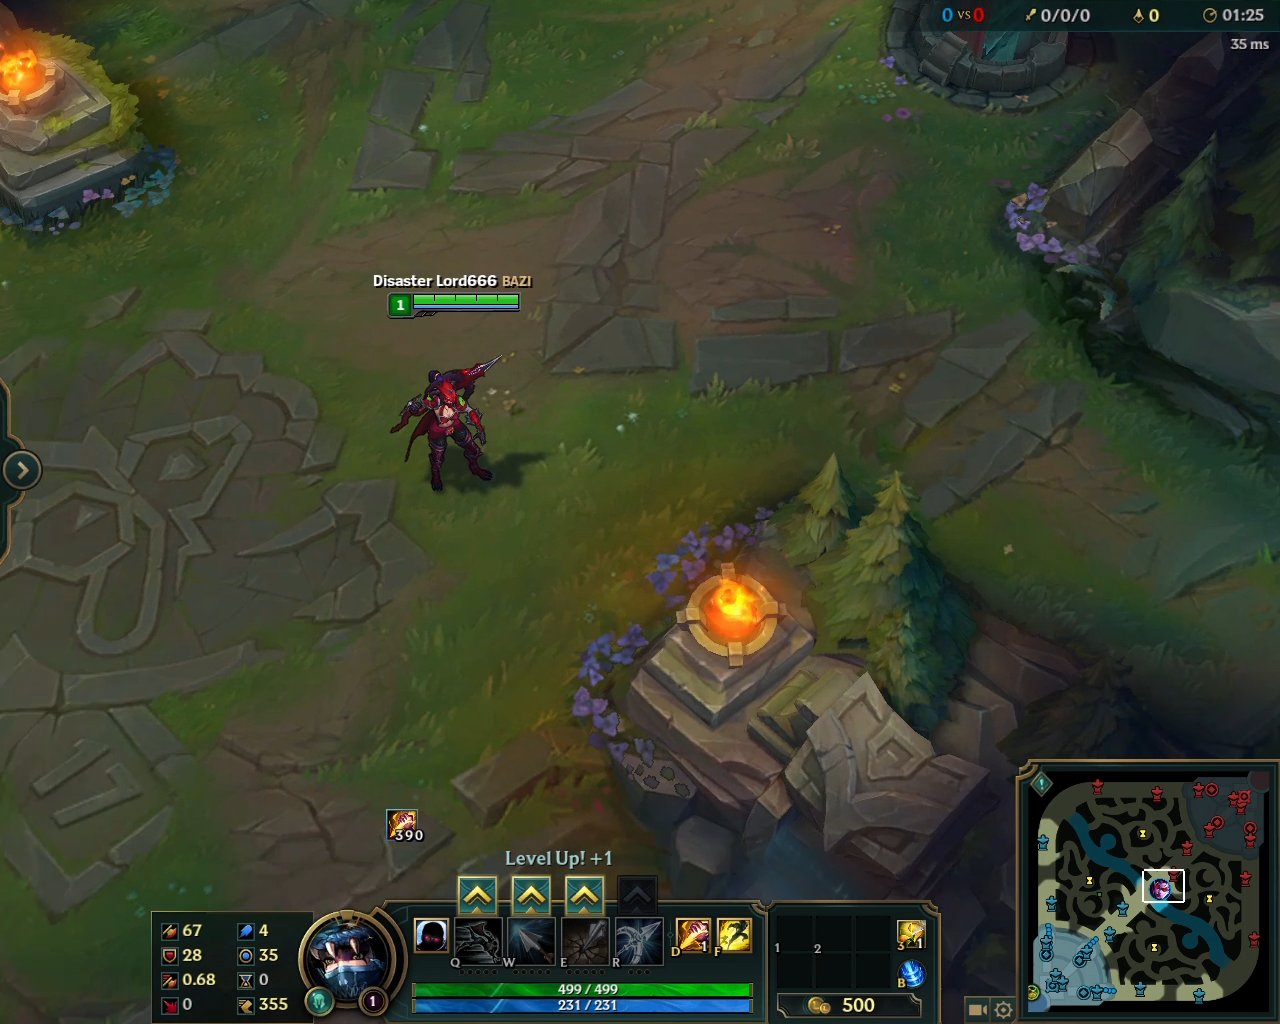Vayne: (385, 349, 514, 496)
